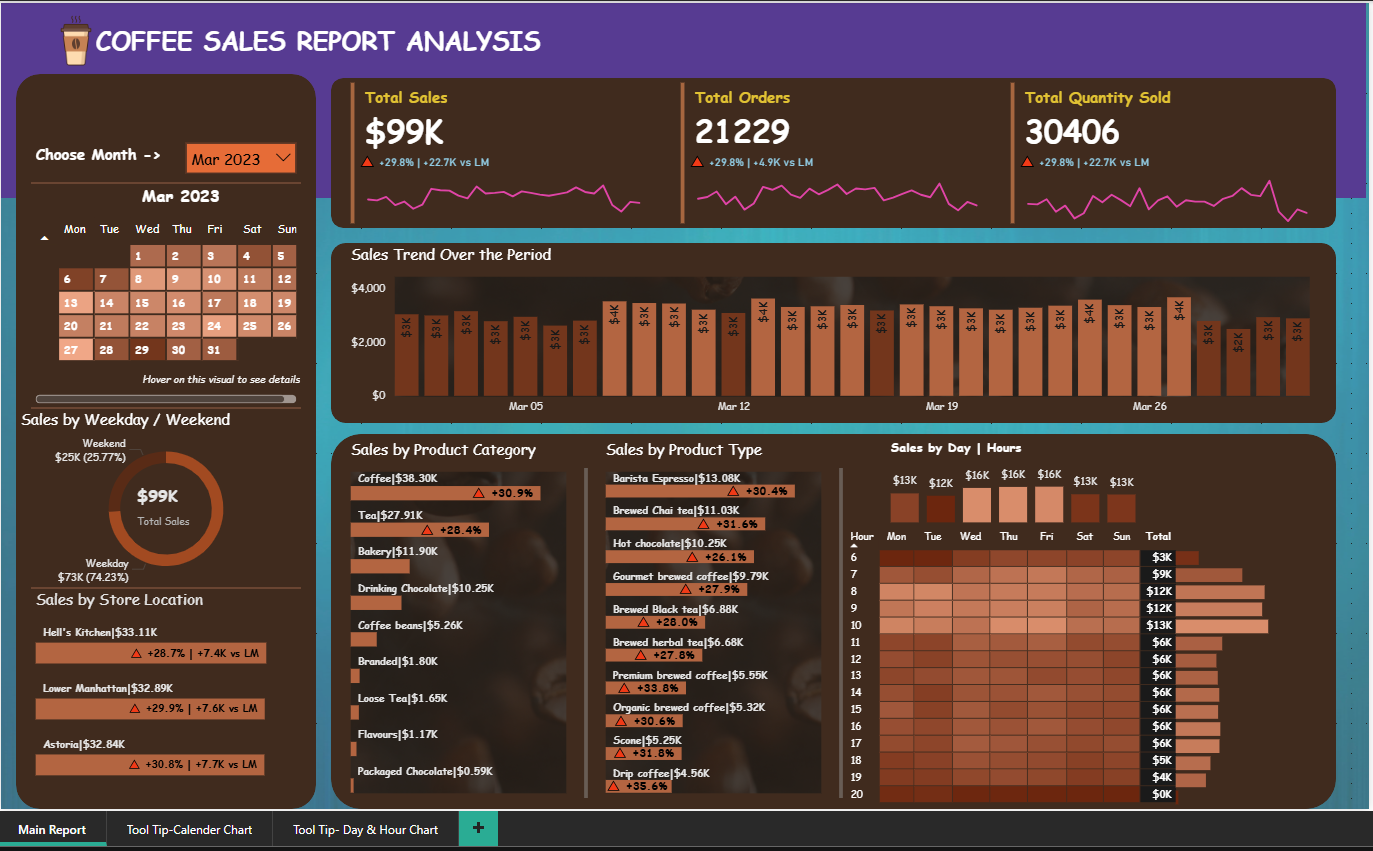

The page's visual inventory and layout, read from the dashboard file:
{"tool":"powerbi","page":{"name":"Main Report","canvas":[1460,860],"ordinal":0},"visuals":[{"type":"shape","box":[0,0,1456,208],"z":0},{"type":"shape","box":[16,76,320,784],"z":1000},{"type":"shape","box":[352,80,1072,160],"z":2000},{"type":"textbox","box":[96,16,496,48],"z":3000},{"type":"cardVisual","fields":{"Data":["Transactions.Total Sales","Transactions.Total Sales"]},"box":[368,80,328,160],"z":4000,"group":"g1"},{"type":"cardVisual","fields":{"Data":["Transactions.Total Orders"]},"box":[720,80,336,160],"z":4000,"group":"g2"},{"type":"cardVisual","fields":{"Data":["Transactions.Total Quantity Sold"]},"box":[1072,80,336,160],"z":4000,"group":"g3"},{"type":"slicer","fields":{"Values":["Date Table.Month Year"]},"box":[192,144,128,48],"z":4000},{"type":"group","id":"g1","title":"Group 1","box":[368,80,328,160],"z":5000},{"type":"group","id":"g2","title":"Group 1","box":[720,80,336,160],"z":6000},{"type":"lineChart","fields":{"Category":["Date Table.Date.Variation.Date Hierarchy.Year","Date Table.Date.Variation.Date Hierarchy.Quarter","Date Table.Date.Variation.Date Hierarchy.Month","Date Table.Date.Variation.Date Hierarchy.Day"],"Y":["Transactions.Total Sales"]},"box":[376.6,160,319.4,80],"z":6000,"group":"g1"},{"type":"lineChart","fields":{"Category":["Date Table.Date.Variation.Date Hierarchy.Year","Date Table.Date.Variation.Date Hierarchy.Quarter","Date Table.Date.Variation.Date Hierarchy.Month","Date Table.Date.Variation.Date Hierarchy.Day"],"Y":["Transactions.Total Orders"]},"box":[728.8,160,327.2,80],"z":6000,"group":"g2"},{"type":"lineChart","fields":{"Category":["Date Table.Date.Variation.Date Hierarchy.Year","Date Table.Date.Variation.Date Hierarchy.Quarter","Date Table.Date.Variation.Date Hierarchy.Month","Date Table.Date.Variation.Date Hierarchy.Day"],"Y":["Transactions.Total Quantity Sold"]},"box":[1080.8,160,327.2,80],"z":6000,"group":"g3"},{"type":"group","id":"g3","title":"Group 1","box":[1072,80,336,160],"z":7000},{"type":"shape","box":[352,256,1072,192],"z":8000},{"type":"pivotTable","fields":{"Rows":["Date Table.Week Number"],"Columns":["Date Table.Day Name"],"Values":["Min(Date Table.Day Number)"]},"box":[32,224,288,208],"z":9000},{"type":"cardVisual","fields":{"Data":["Transactions.Foot Note"]},"box":[128,368,208,48],"z":10000},{"type":"card","fields":{"Values":["Min(Date Table.Month Year)"]},"box":[144,192,96,32],"z":11000},{"type":"shape","box":[32,416,288,32],"z":12000},{"type":"shape","box":[32,608,288,32],"z":13000},{"type":"shape","box":[32,176,288,32],"z":14000},{"type":"donutChart","title":"Sales by Weekday / Weekend","fields":{"Category":["Date Table.Weekday / Weekend"],"Y":["Transactions.Total Sales"]},"box":[16,432,320,192],"z":15000},{"type":"cardVisual","fields":{"Data":["Transactions.Total Sales"]},"box":[128,496,96,80],"z":16000},{"type":"clusteredBarChart","title":"Sales by Store Location","fields":{"Category":["Transactions.store_location"],"Y":["Transactions.Placeholder","Transactions.Total Sales"]},"box":[32,624,288,208],"z":17000},{"type":"columnChart","title":"Sales Trend Over the Period","fields":{"Category":["Transactions.transaction_date"],"Y":["Transactions.Total Sales"]},"box":[368,256,1040,192],"z":18000},{"type":"shape","box":[352,460,1072,400],"z":19000},{"type":"clusteredBarChart","title":"Sales by Product Category","fields":{"Y":["Transactions.Placeholder","Transactions.Total Sales"],"Category":["Transactions.product_category"]},"box":[368,464,240,384],"z":20000},{"type":"shape","box":[608,496,32,352],"z":21000},{"type":"clusteredBarChart","title":"Sales by Product Type","fields":{"Y":["Transactions.Placeholder","Transactions.Total Sales"],"Category":["Transactions.product_type"]},"box":[640,464,240,384],"z":22000},{"type":"shape","box":[880,496,32,352],"z":23000},{"type":"pivotTable","fields":{"Rows":["Transactions.Hour"],"Columns":["Date Table.Day Name"],"Values":["Transactions.Total Sales"]},"box":[896,556,368,304],"z":24000},{"type":"barChart","fields":{"Category":["Transactions.Hour"],"Y":["Transactions.Total Sales"]},"box":[1248,572,128,288],"z":25000},{"type":"columnChart","title":"Sales by Day | Hours","fields":{"Y":["Transactions.Total Sales"],"Category":["Date Table.Day Name"]},"box":[944,464,272,96],"z":26000},{"type":"textbox","box":[32,144,160,48],"z":27000},{"type":"image","box":[48,0,64,80],"z":28000}]}

Visuals, with their boxes on the page's 1460x860 design canvas (x1, y1, x2, y2). These are canvas units, not pixel positions in the 1373x851 screenshot, which may show the page scaled, cropped or inside an application window:
shape: (0, 0, 1456, 208)
shape: (16, 76, 336, 860)
shape: (352, 80, 1424, 240)
textbox: (96, 16, 592, 64)
cardVisual - Transactions.Total Sales x Transactions.Total Sales: (368, 80, 696, 240)
cardVisual - Transactions.Total Orders: (720, 80, 1056, 240)
cardVisual - Transactions.Total Quantity Sold: (1072, 80, 1408, 240)
slicer - Date Table.Month Year: (192, 144, 320, 192)
"Group 1" group: (368, 80, 696, 240)
"Group 1" group: (720, 80, 1056, 240)
lineChart - Date Table.Date.Variation.Date Hierarchy.Year x Date Table.Date.Variation.Date Hierarchy.Quarter: (377, 160, 696, 240)
lineChart - Date Table.Date.Variation.Date Hierarchy.Year x Date Table.Date.Variation.Date Hierarchy.Quarter: (729, 160, 1056, 240)
lineChart - Date Table.Date.Variation.Date Hierarchy.Year x Date Table.Date.Variation.Date Hierarchy.Quarter: (1081, 160, 1408, 240)
"Group 1" group: (1072, 80, 1408, 240)
shape: (352, 256, 1424, 448)
pivotTable - Date Table.Week Number x Date Table.Day Name: (32, 224, 320, 432)
cardVisual - Transactions.Foot Note: (128, 368, 336, 416)
card - Min(Date Table.Month Year): (144, 192, 240, 224)
shape: (32, 416, 320, 448)
shape: (32, 608, 320, 640)
shape: (32, 176, 320, 208)
"Sales by Weekday / Weekend" donutChart: (16, 432, 336, 624)
cardVisual - Transactions.Total Sales: (128, 496, 224, 576)
"Sales by Store Location" clusteredBarChart: (32, 624, 320, 832)
"Sales Trend Over the Period" columnChart: (368, 256, 1408, 448)
shape: (352, 460, 1424, 860)
"Sales by Product Category" clusteredBarChart: (368, 464, 608, 848)
shape: (608, 496, 640, 848)
"Sales by Product Type" clusteredBarChart: (640, 464, 880, 848)
shape: (880, 496, 912, 848)
pivotTable - Transactions.Hour x Date Table.Day Name: (896, 556, 1264, 860)
barChart - Transactions.Hour x Transactions.Total Sales: (1248, 572, 1376, 860)
"Sales by Day | Hours" columnChart: (944, 464, 1216, 560)
textbox: (32, 144, 192, 192)
image: (48, 0, 112, 80)
